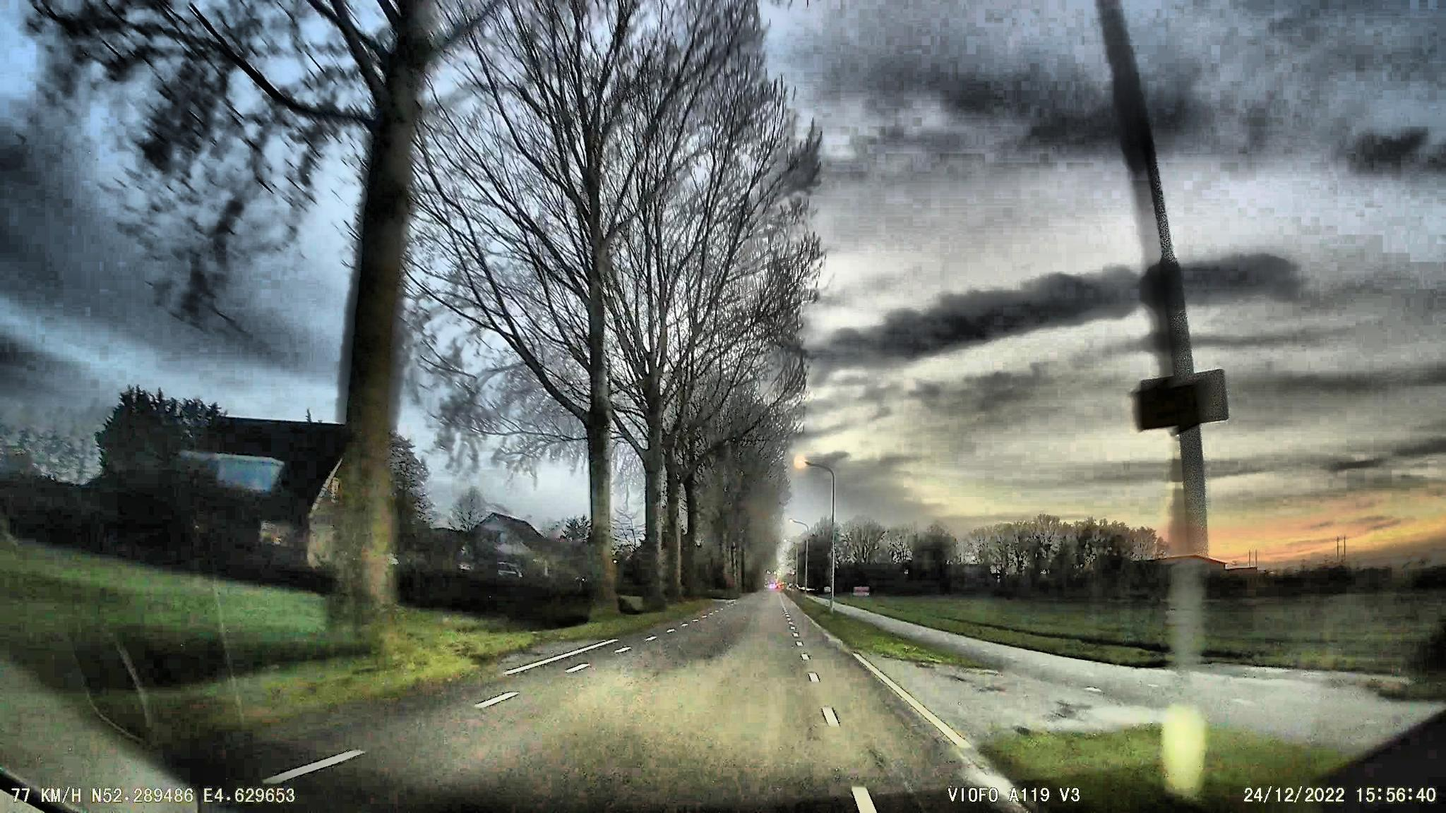Roads: (394, 591, 1164, 787)
